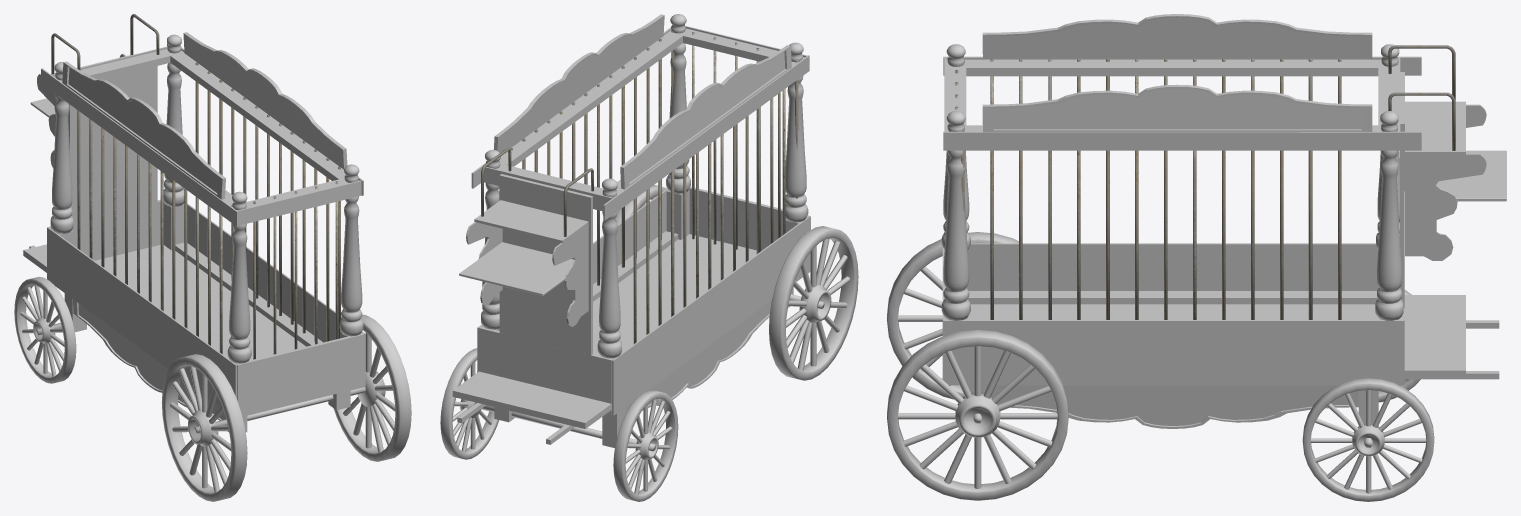
The model's file is uploads_files_4749513_wagon.fbx.
3 views of the same model, side by side, from view 1: azimuth 30°, elevation 25°; view 2: azimuth 150°, elevation 25°; view 3: azimuth 270°, elevation 25° (orthographic). The views are drawn at different scales.
Parts seen in each view (by area): view 1: wagonwr, wagonme, wagonwheel.001, wagon_poles, wagonwheel; view 2: wagonwr, wagonme, wagonwheel.001, wagon_poles, wagonwheel; view 3: wagonwr, wagonwheel.001, wagonme, wagon_poles, wagonwheel.
Boxes of the visible parts, x1,y1,x2,y2 form: wagonwr: [23, 32, 365, 432]; wagonme: [51, 14, 340, 359]; wagonwheel.001: [161, 314, 411, 501]; wagon_poles: [29, 34, 363, 363]; wagonwheel: [14, 277, 76, 383]; wagonwr: [452, 14, 810, 447]; wagonme: [481, 30, 798, 343]; wagonwheel.001: [615, 185, 858, 380]; wagon_poles: [457, 14, 808, 444]; wagonwheel: [440, 348, 678, 501]; wagonwr: [942, 14, 1506, 428]; wagonwheel.001: [887, 232, 1068, 500]; wagonme: [955, 45, 1455, 319]; wagon_poles: [941, 44, 1499, 379]; wagonwheel: [1302, 290, 1434, 501].
Size of the model in its own units: 445 by 760 by 1069.
